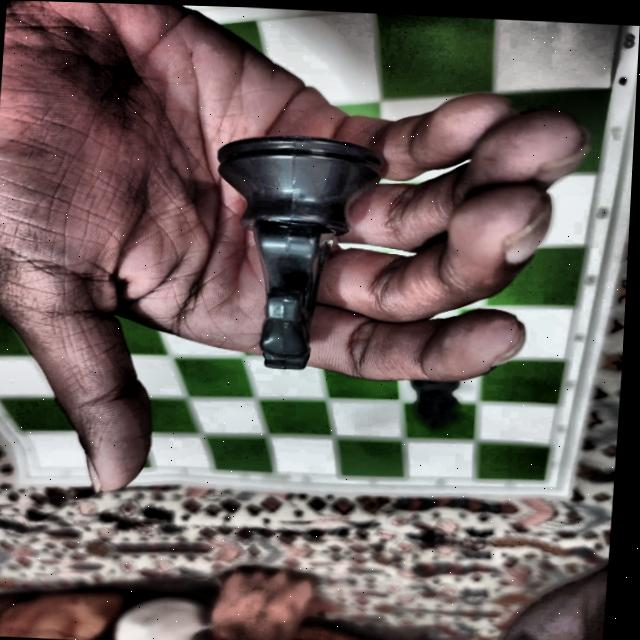BlackKnight: (201, 134, 392, 375)
